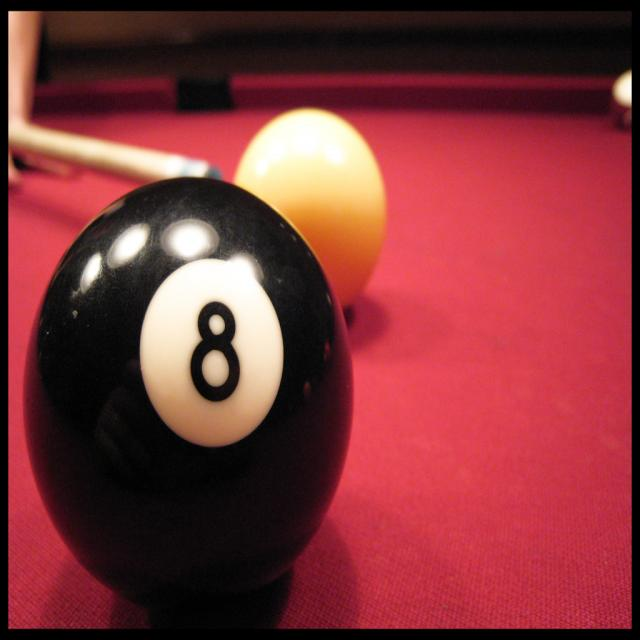Ball: (24, 180, 354, 612), (234, 107, 390, 315)
Billiard table: (9, 72, 631, 628)
